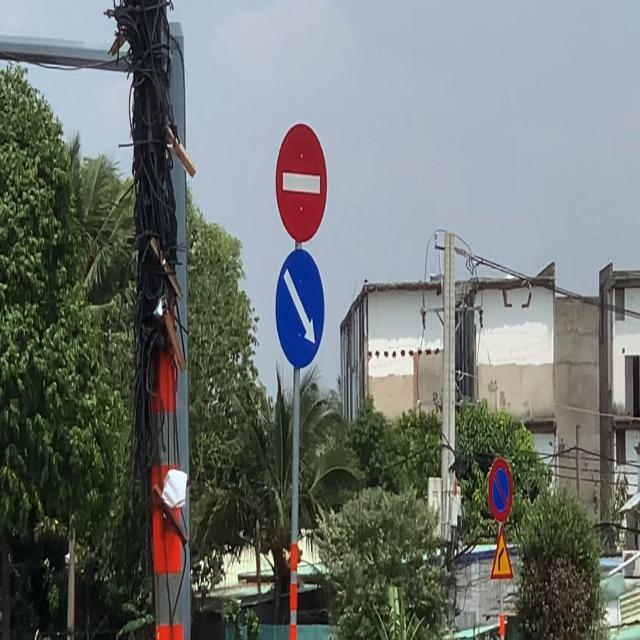Cam do: (488, 458, 513, 522)
Cam nguoc chieu: (275, 124, 328, 245)
Hieu lenh: (275, 250, 325, 369)
Nguy hiem: (490, 524, 513, 580)
